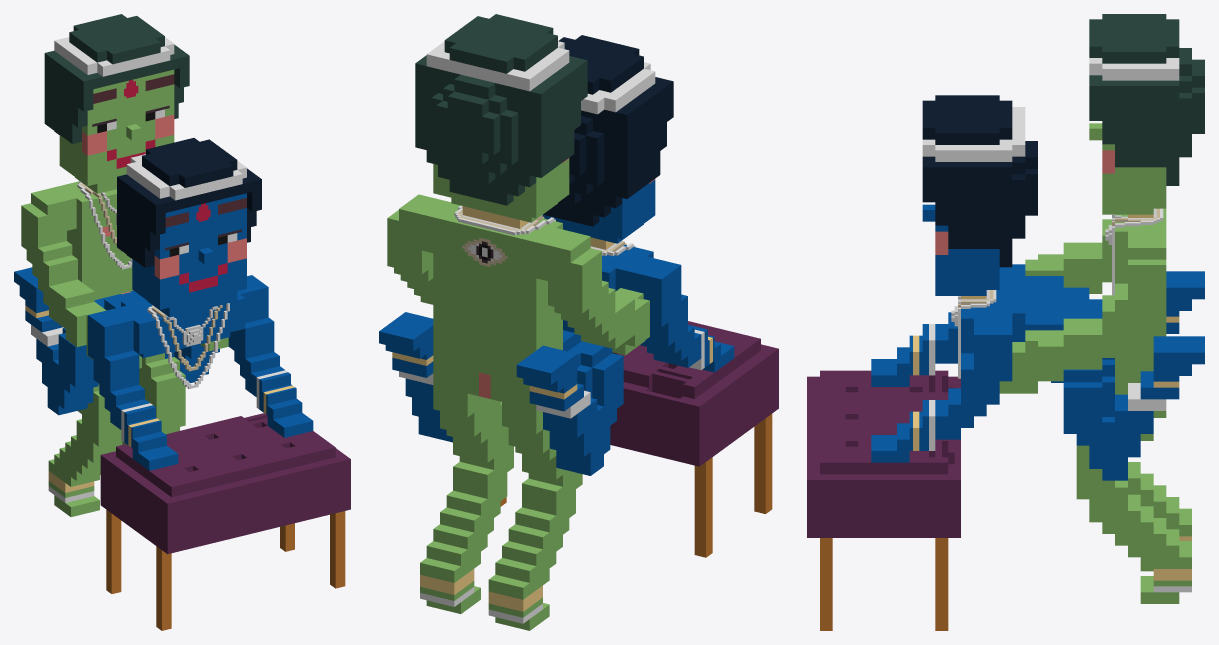
The model's file is kama81.glb.
3 views of the same model, side by side, from view 1: azimuth 30°, elevation 25°; view 2: azimuth 150°, elevation 25°; view 3: azimuth 270°, elevation 25° (orthographic). The views are drawn at different scales.
Parts seen in each view (by area): view 1: Node; view 2: Node; view 3: Node.
Part boxes in pixels (box(x1,y1,x2,y2)): Node: box(14, 14, 350, 630); Node: box(379, 14, 778, 630); Node: box(807, 14, 1204, 630).
Size of the model in its own units: 7.6 by 18.8 by 12.4.
Materials: 1 (1 with a texture image).
